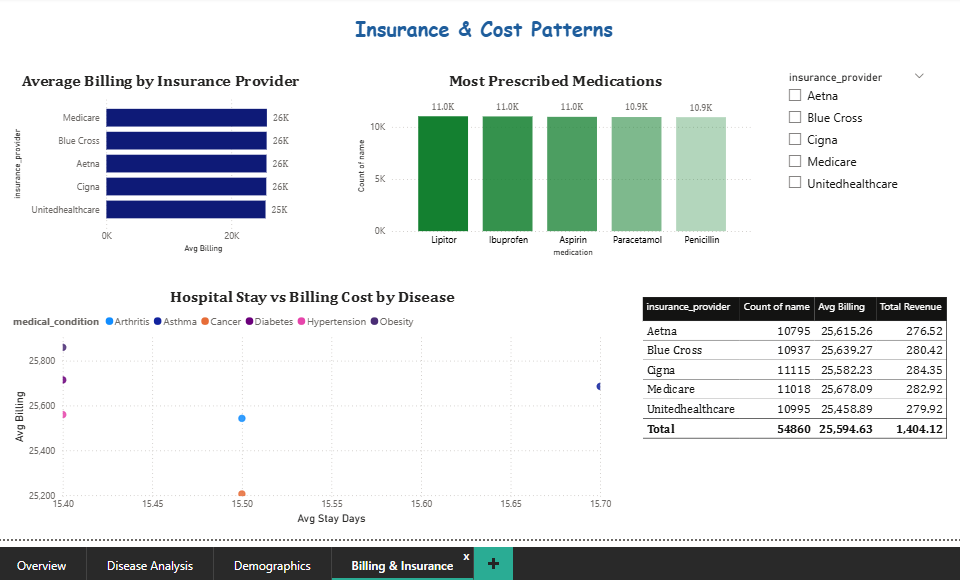

This screenshot's page, from the dashboard's own definition file:
{"tool":"powerbi","page":{"name":"Billing & Insurance","canvas":[1280,720],"ordinal":3},"visuals":[{"type":"barChart","title":"Average Billing by Insurance Provider","fields":{"Category":["healthcare_clean.insurance_provider"],"Y":["healthcare_clean.Avg Billing"]},"box":[0,78.3,431.7,281.7],"z":0},{"type":"scatterChart","title":"Hospital Stay vs Billing Cost by Disease","fields":{"X":["healthcare_clean.Avg Stay Days"],"Y":["healthcare_clean.Avg Billing"],"Series":["healthcare_clean.medical_condition"]},"box":[0,365,835,355],"z":1000},{"type":"clusteredColumnChart","title":"Most Prescribed Medications","fields":{"Category":["healthcare_clean.medication"],"Y":["CountNonNull(healthcare_clean.name)"]},"box":[456.7,78.3,566.7,286.7],"z":2000},{"type":"tableEx","fields":{"Values":["healthcare_clean.insurance_provider","healthcare_clean.name","healthcare_clean.Avg Billing","healthcare_clean.Total Revenue"]},"box":[835,378.3,445,286.7],"z":3000},{"type":"slicer","fields":{"Values":["healthcare_clean.insurance_provider"]},"box":[1023.3,78.3,235,240],"z":4000},{"type":"textbox","box":[0,16.7,1280,61.7],"z":5000}]}

Visuals, with their boxes on the page's 1280x720 design canvas (x1, y1, x2, y2). These are canvas units, not pixel positions in the 960x580 screenshot, which may show the page scaled, cropped or inside an application window:
"Average Billing by Insurance Provider" barChart: bbox=(0, 78, 432, 360)
"Hospital Stay vs Billing Cost by Disease" scatterChart: bbox=(0, 365, 835, 720)
"Most Prescribed Medications" clusteredColumnChart: bbox=(457, 78, 1023, 365)
tableEx - healthcare_clean.insurance_provider x healthcare_clean.name: bbox=(835, 378, 1280, 665)
slicer - healthcare_clean.insurance_provider: bbox=(1023, 78, 1258, 318)
textbox: bbox=(0, 17, 1280, 78)
